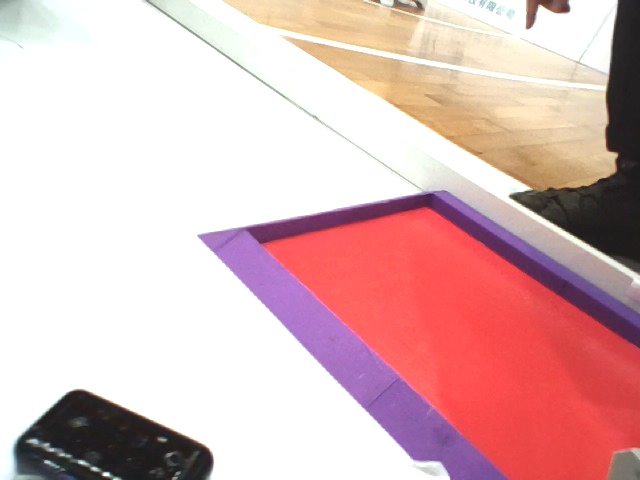black: (14, 388, 215, 480)
kuang: (196, 188, 640, 480)
